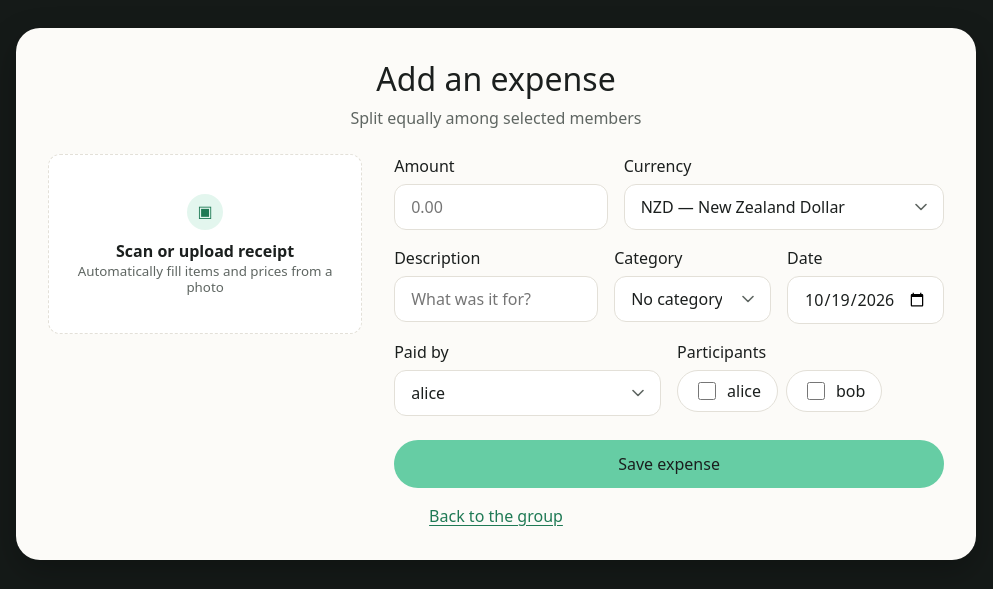
AC5: shows the error when the payer is no longer a group member
This screenshot has width=993, height=589.
Type "10" into the number field labelled "Amount".
click(501, 207); type("10")  # box x1=394 y1=184 x2=608 y2=230
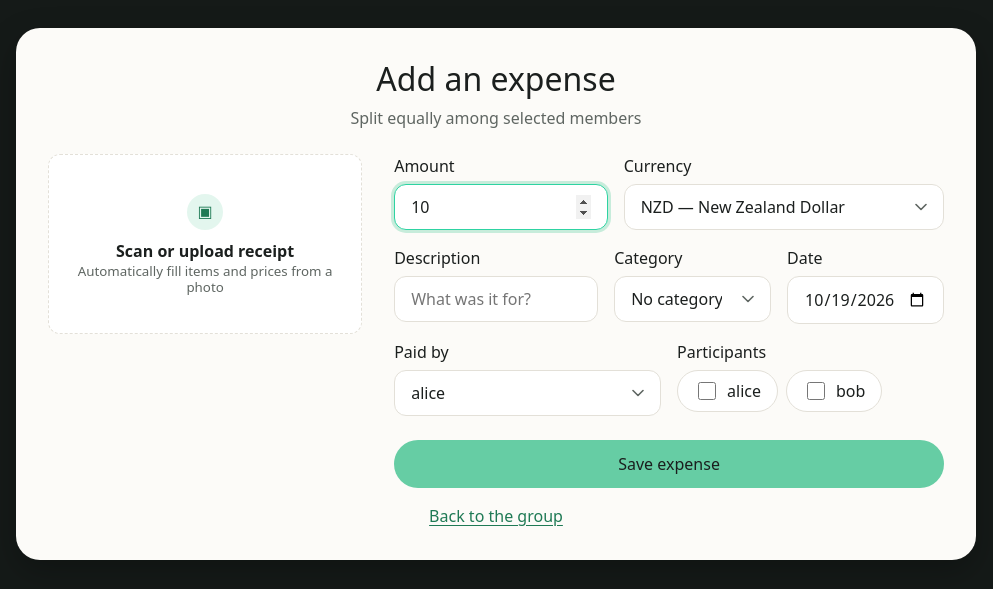
Type "Taxi" into the field labelled "Description".
click(496, 299); type("Taxi")  # box x1=394 y1=276 x2=598 y2=322
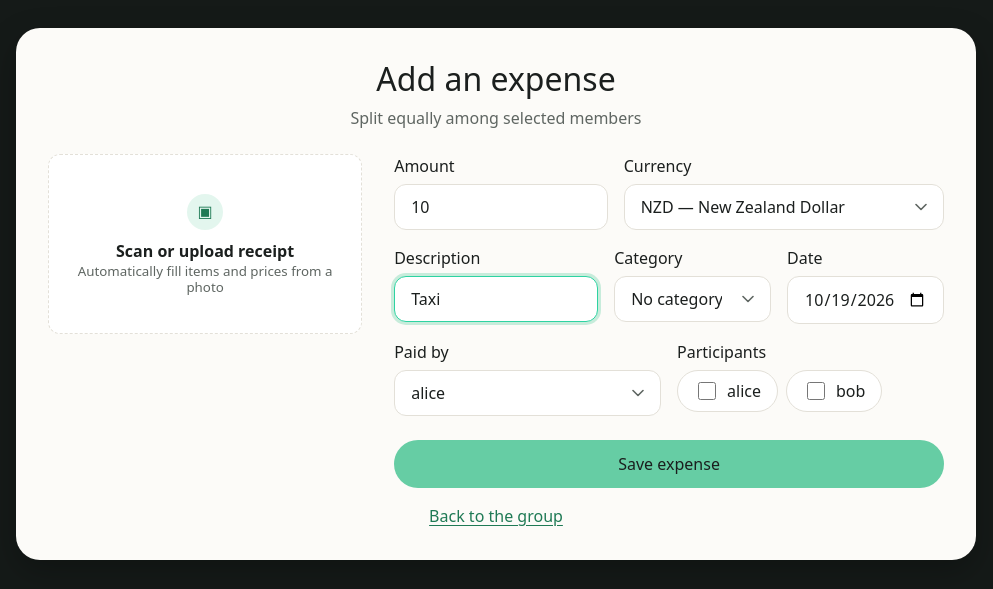
Click the checkbox labelled "alice".
click(707, 391)  # box x1=698 y1=382 x2=716 y2=400
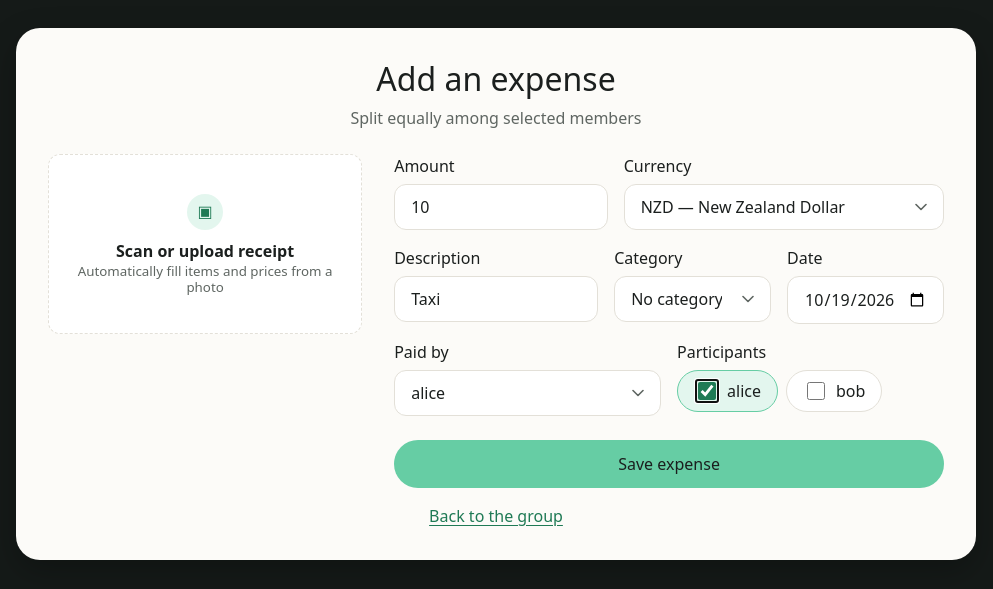
Click the button "Save expense".
click(669, 464)  # box x1=394 y1=440 x2=944 y2=488
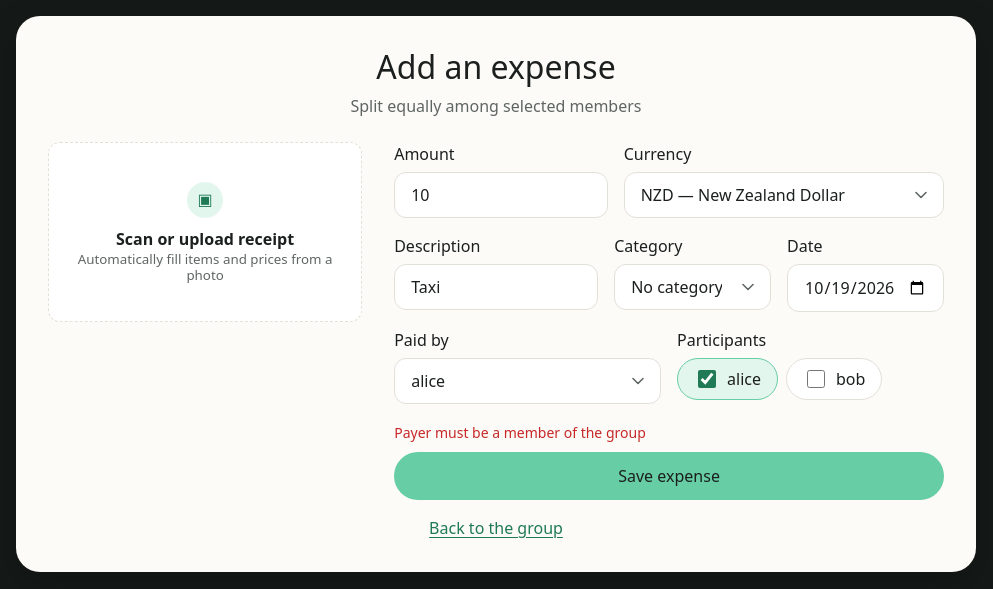
Expected: the text "Payer must be a member of the group" is shown, x1=394 y1=423 x2=646 y2=442
